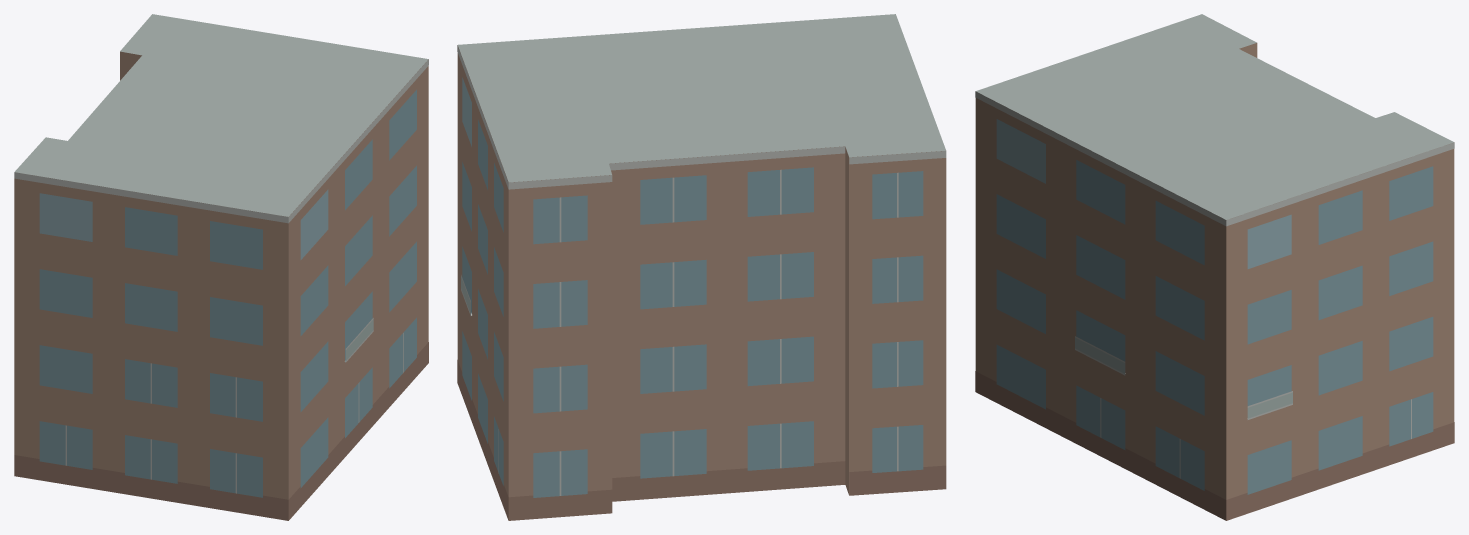
Rendered from survey-upis-32765942.glb.
The picture shows the model from 3 angles, left to right: view 1: azimuth 30°, elevation 25°; view 2: azimuth 150°, elevation 25°; view 3: azimuth 270°, elevation 25°; orthographic projection. The views are drawn at different scales.
Visible parts, largest first — view 1: survey-upis-32765942.tmp; view 2: survey-upis-32765942.tmp; view 3: survey-upis-32765942.tmp.
Part boxes in pixels (box(x1,y1,x2,y2)): survey-upis-32765942.tmp: box(14, 14, 428, 520); survey-upis-32765942.tmp: box(457, 14, 946, 520); survey-upis-32765942.tmp: box(975, 14, 1454, 520).
Size of the model in its own units: 17.05 by 11.6 by 16.75.
